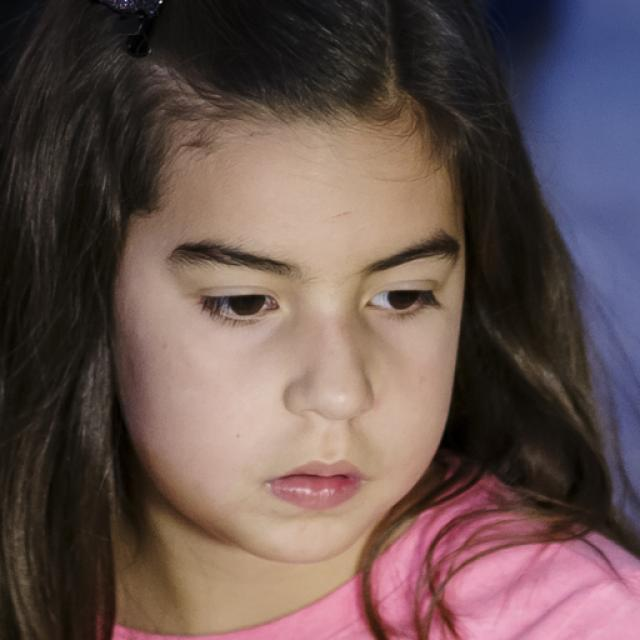neutral: (116, 108, 464, 562)
